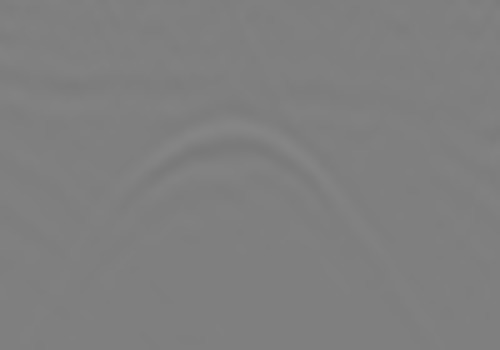hyperbola: (63, 107, 414, 350)
